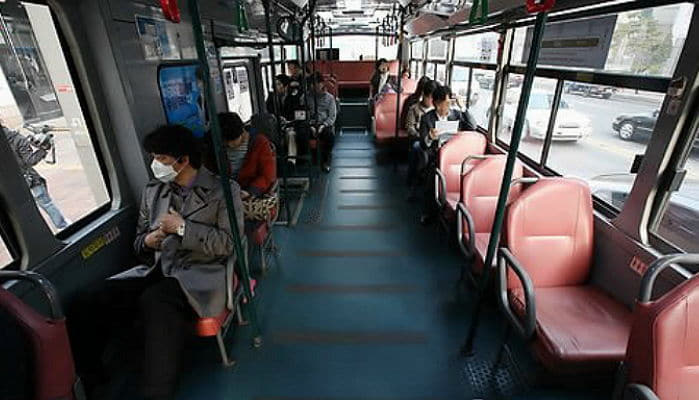seat: (506, 171, 632, 363)
